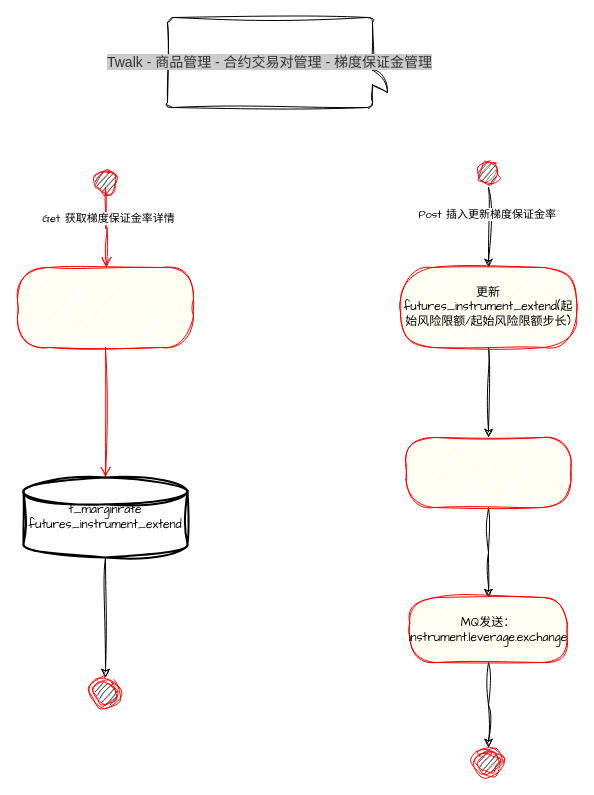
The diagram is 594 pixels wide and 795 high, and some of its shapes have lost their labels. Each missing label, with the centre of its shape:
查询和拼装: [105,307]
调用核心设置保证金率接口: [488,472]
